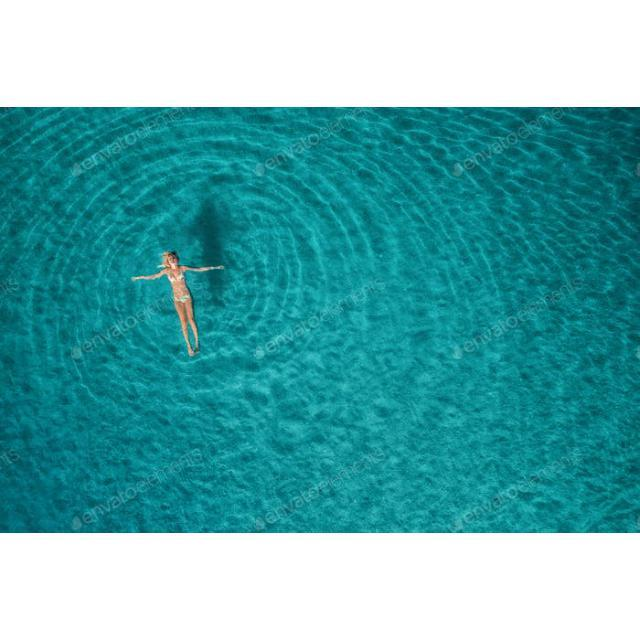human: (131, 250, 225, 357)
